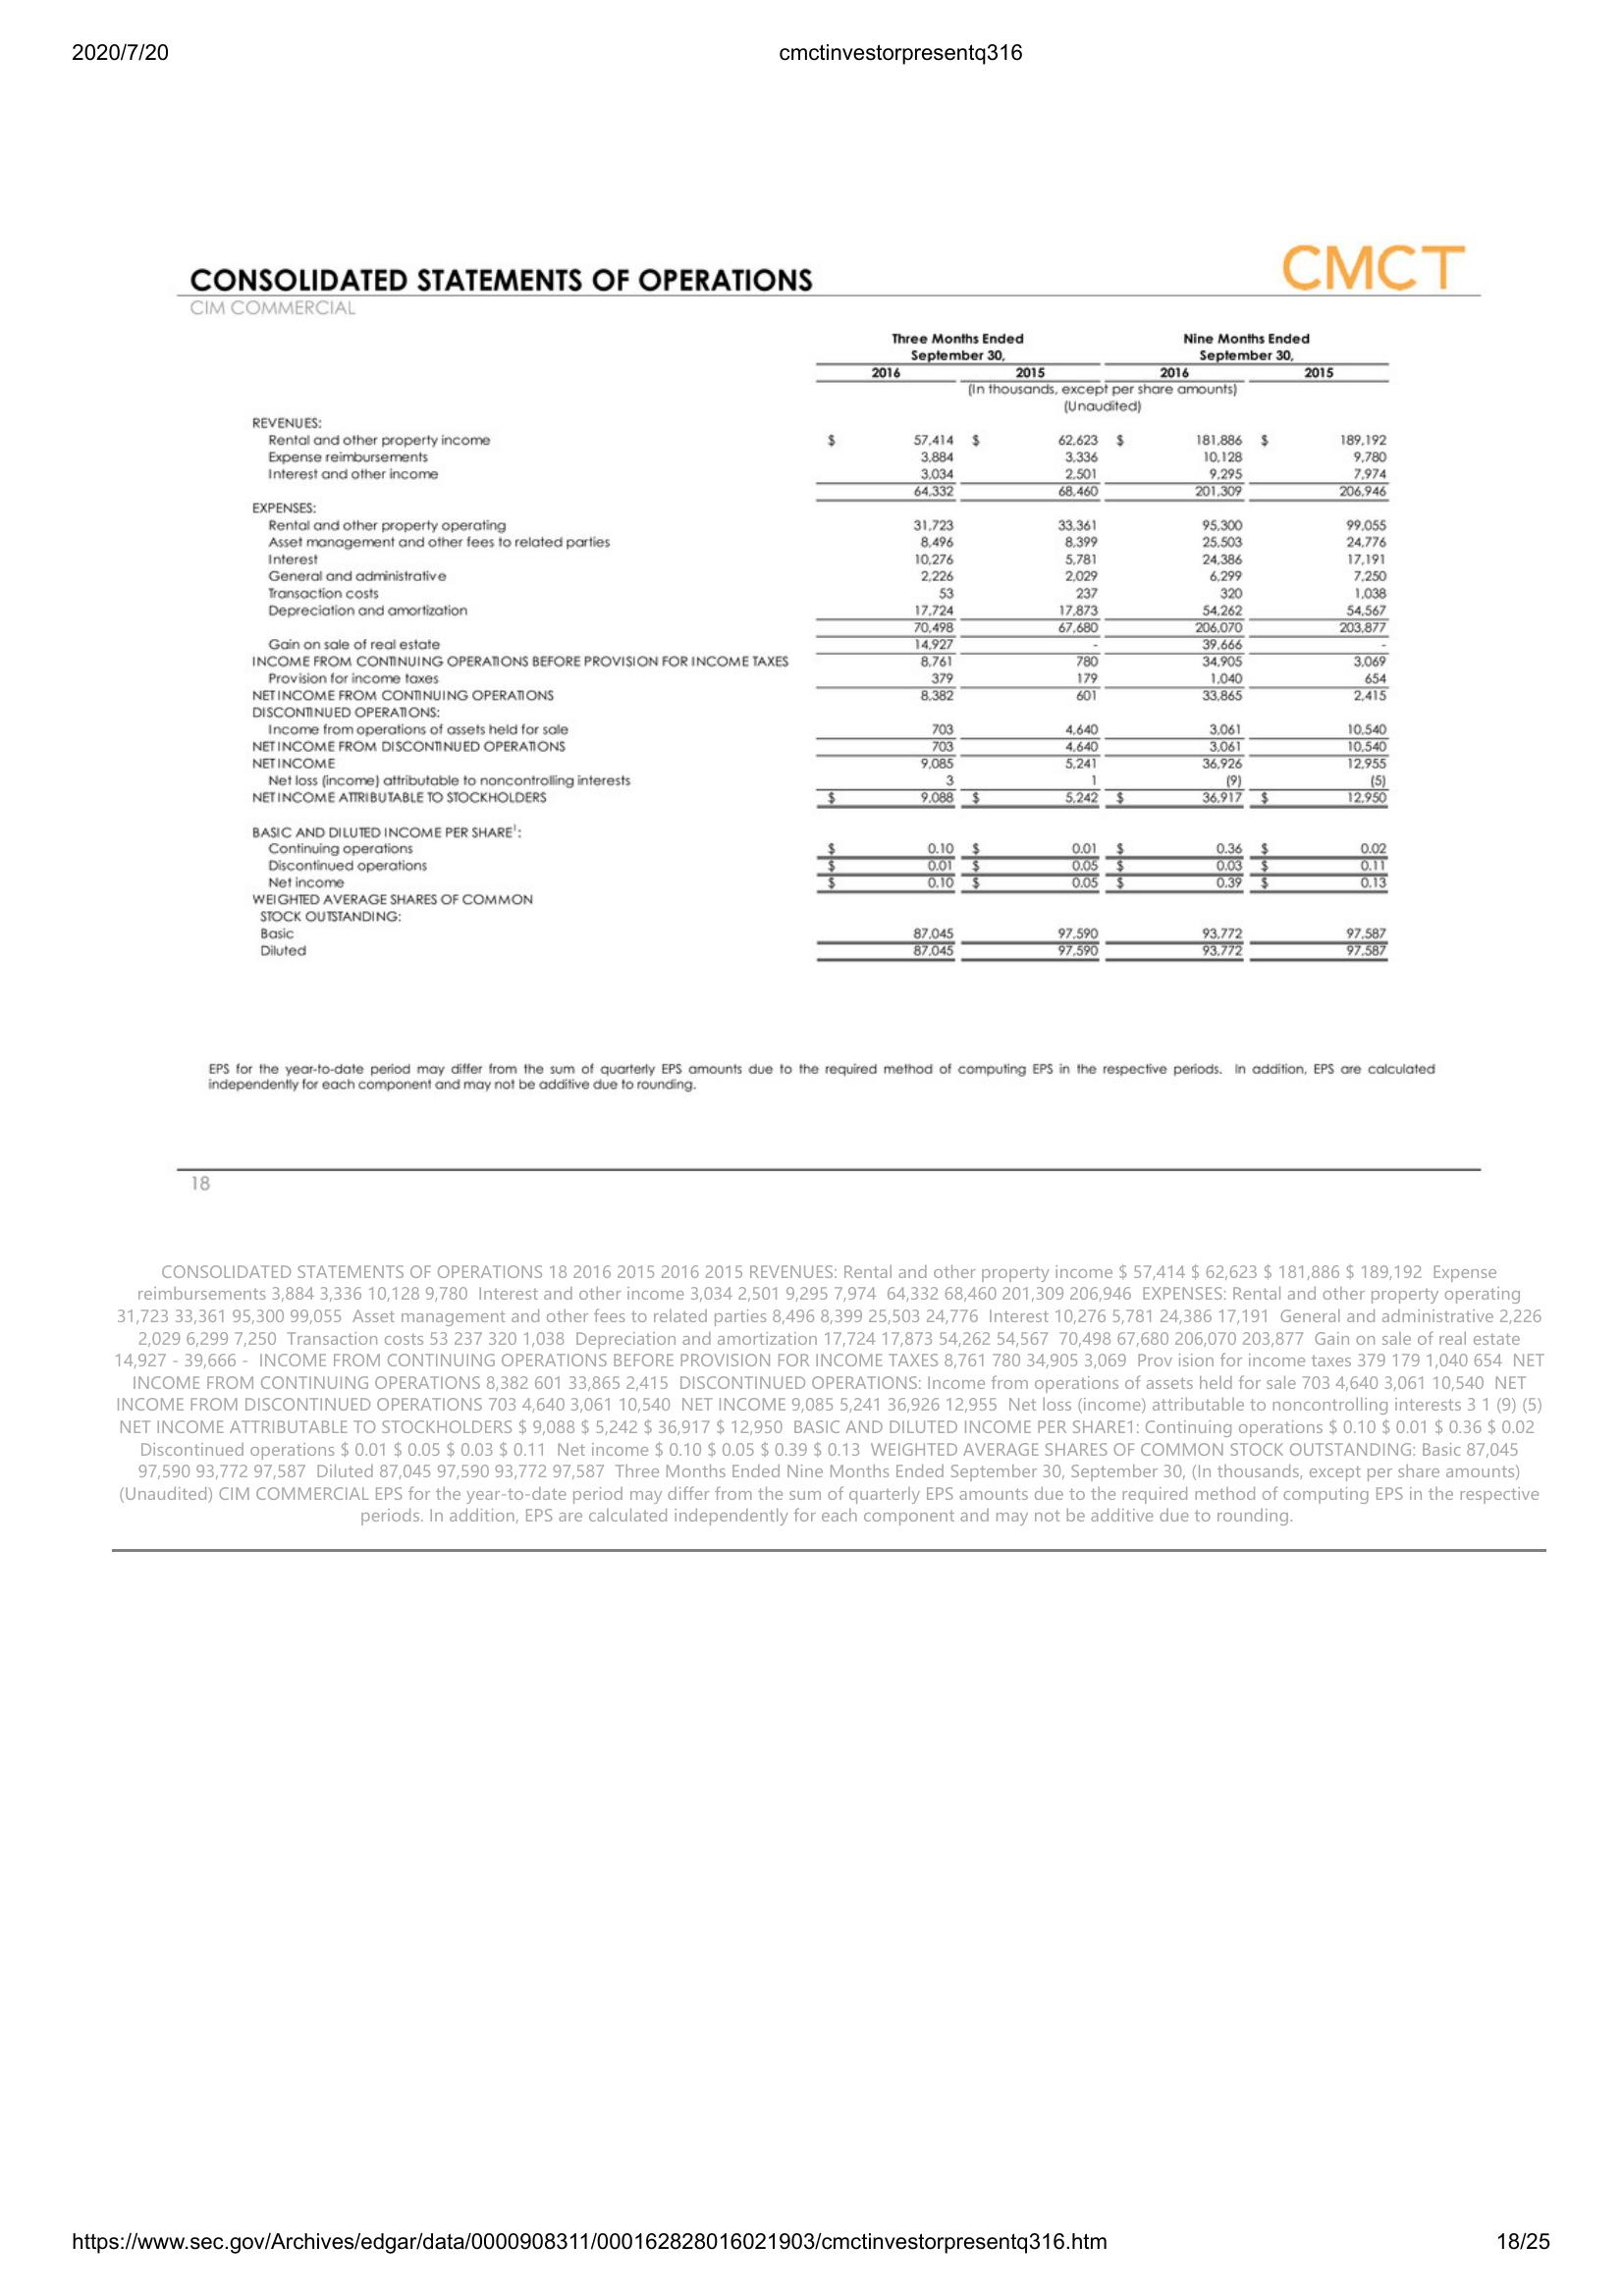table: (232, 323, 1400, 981)
